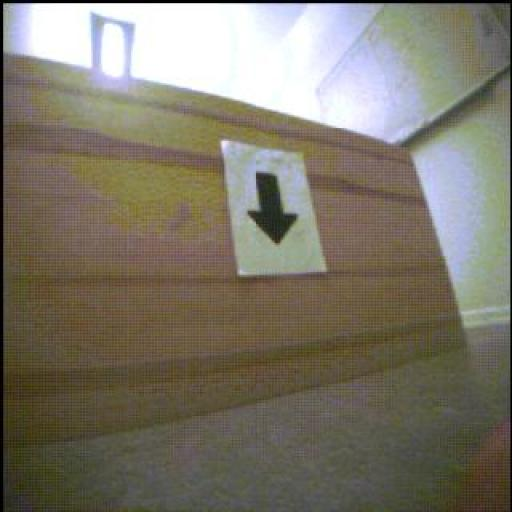arrow: (249, 174, 299, 246)
